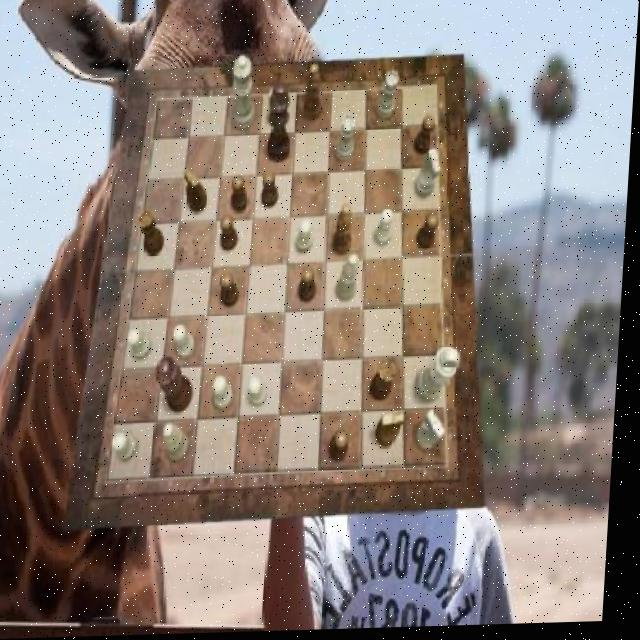bishop: (302, 65, 324, 123), (335, 205, 356, 258)
black-bishop: (267, 85, 294, 163)
black-king: (184, 169, 210, 215), (380, 415, 409, 450)
black-knight: (419, 215, 443, 252), (415, 117, 436, 156), (221, 273, 243, 308), (223, 216, 242, 254), (234, 176, 253, 214), (262, 173, 281, 210), (301, 269, 320, 304), (335, 431, 355, 464)
black-pawn: (158, 356, 198, 413)
black-queen: (139, 210, 169, 256), (374, 364, 400, 403)
black-rook: (338, 257, 363, 304), (168, 424, 196, 462)
white-bishop: (419, 348, 465, 406)
white-king: (416, 151, 443, 201), (420, 414, 451, 454)
white-knight: (176, 324, 200, 359), (129, 330, 155, 361), (217, 377, 239, 412), (117, 433, 143, 462), (377, 212, 396, 250), (268, 88, 286, 126), (252, 378, 273, 409), (297, 221, 315, 256)
white-pawn: (230, 55, 258, 132)
white-queen: (377, 74, 399, 123), (337, 116, 357, 164)
